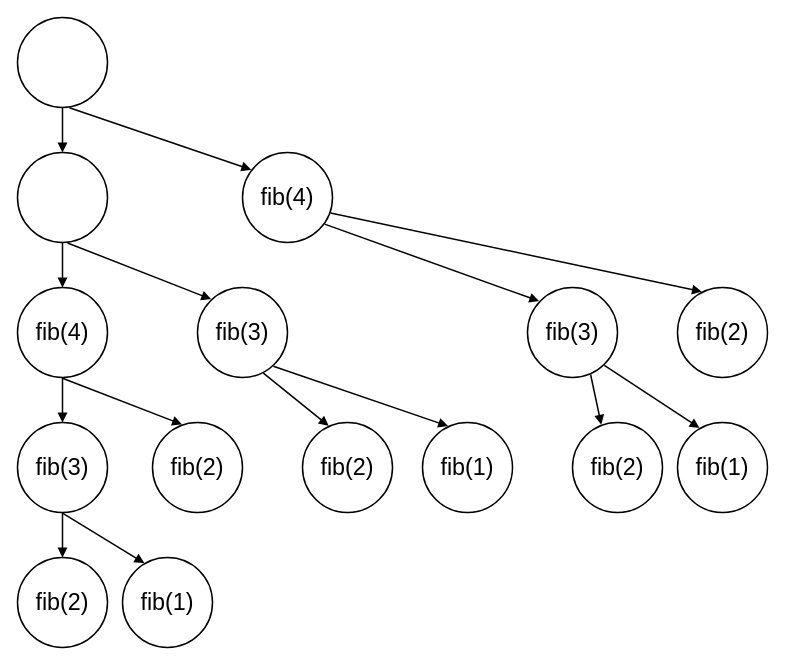
This 786x666 diagram has some shape labels left out. The box of each missing label's shape, as (x1, y1, x2, y2) in pixels:
fib(5): (16, 151, 108, 243)
fib(6): (16, 16, 108, 108)
